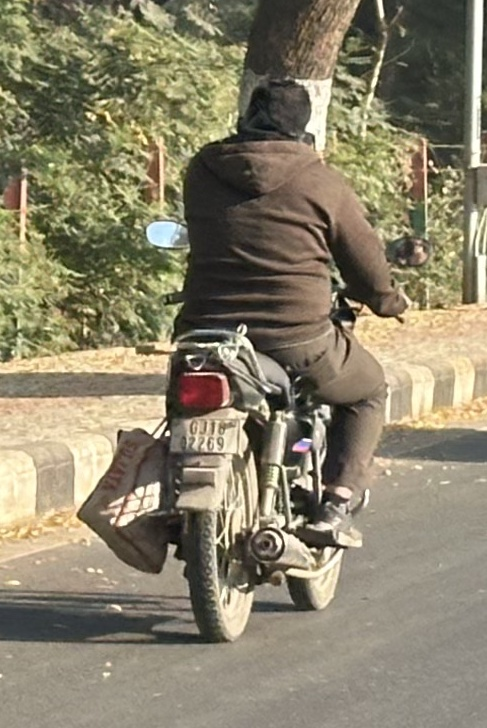BikeWithRider: (70, 68, 438, 650)
NoHelmet: (225, 71, 327, 155)
